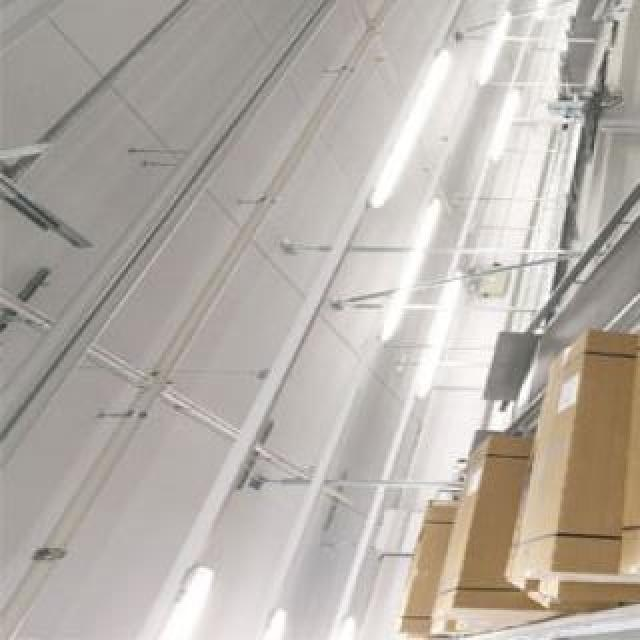fluorescent tube: (363, 17, 461, 215), (364, 184, 444, 349), (135, 500, 229, 640), (478, 67, 547, 165), (229, 576, 316, 640), (469, 13, 526, 83), (520, 0, 572, 28)
